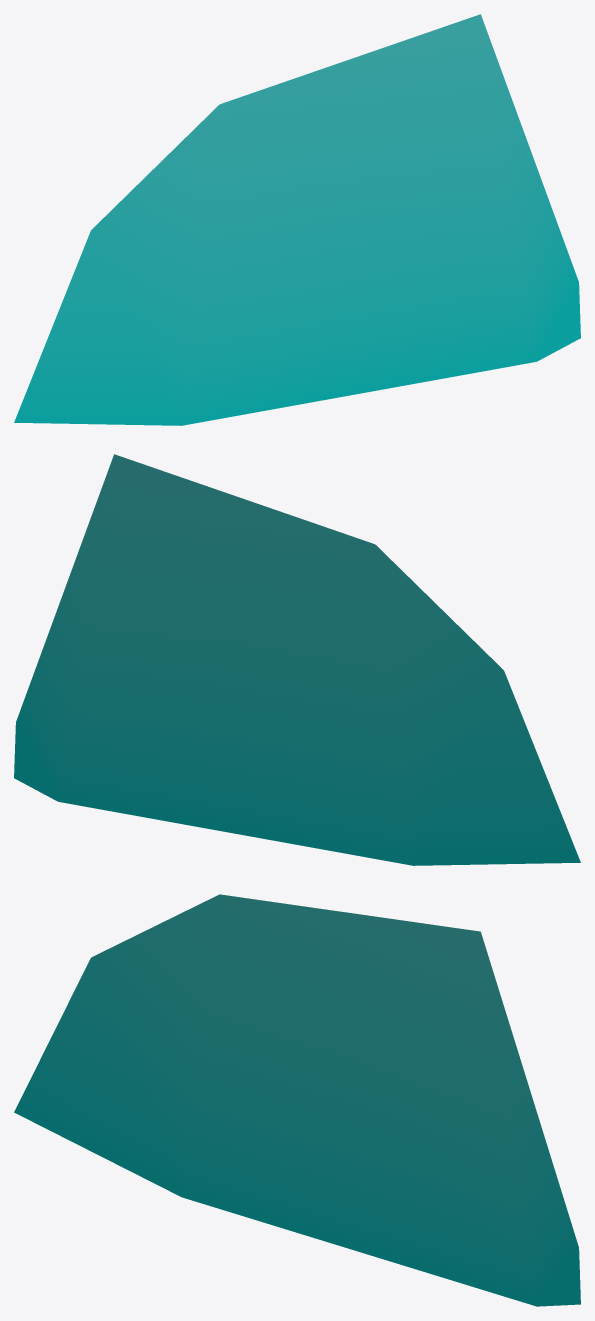
File: Fern_sbslY_High_sbslY_VarD_LOD2.fbx
3 views of the same model, one above another, from view 1: azimuth 30°, elevation 25°; view 2: azimuth 150°, elevation 25°; view 3: azimuth 330°, elevation 25° (orthographic).
Visible parts, largest first — view 1: _7559_VarD_LOD3; view 2: _7559_VarD_LOD3; view 3: _7559_VarD_LOD3.
Part boxes in pixels (x1,y1,x2,y2): _7559_VarD_LOD3: (14, 14, 580, 425); _7559_VarD_LOD3: (14, 454, 580, 865); _7559_VarD_LOD3: (14, 894, 580, 1306).
Bounding box in the file's own units: 112 × 68.11 × 0.
